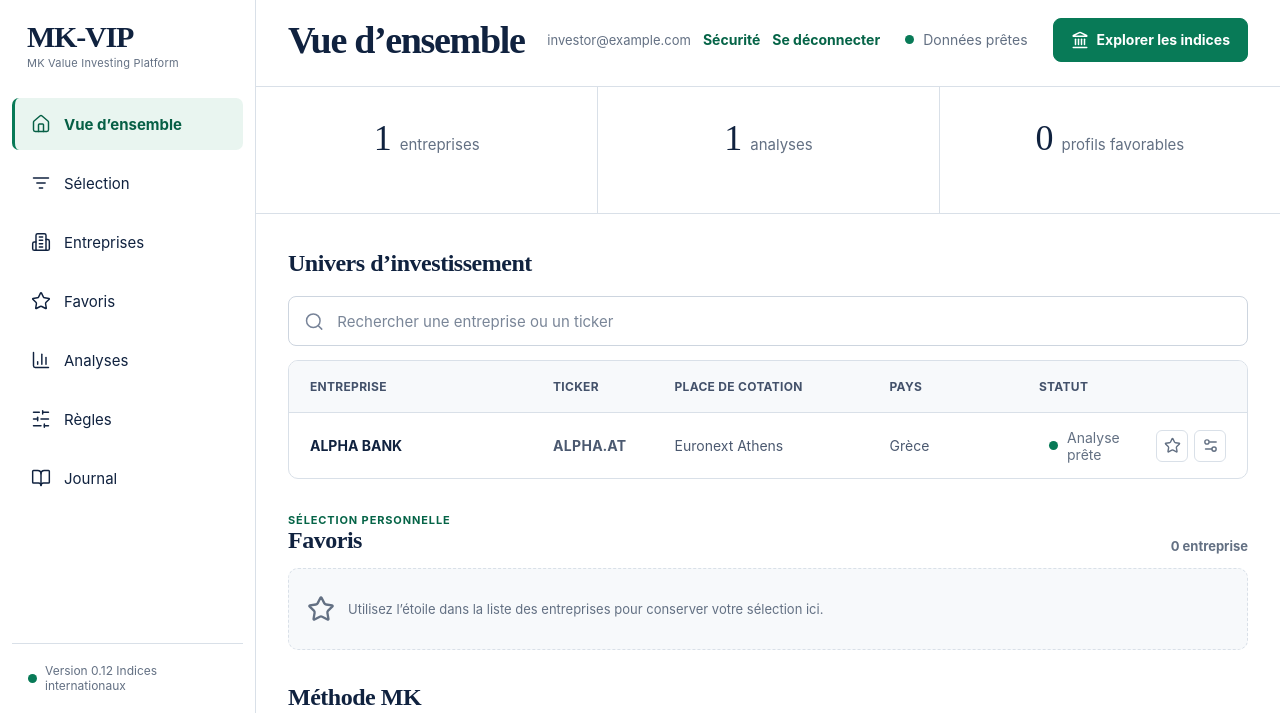
Test: MK-VIP authentication › allows a financial institution without an MK Score to become a favorite
This screenshot has width=1280, height=713.
Step 1. Click the button named "Ajouter ALPHA BANK aux favoris" → click(1172, 446), box left=1156, top=430, right=1188, bottom=462
(page scrolled)
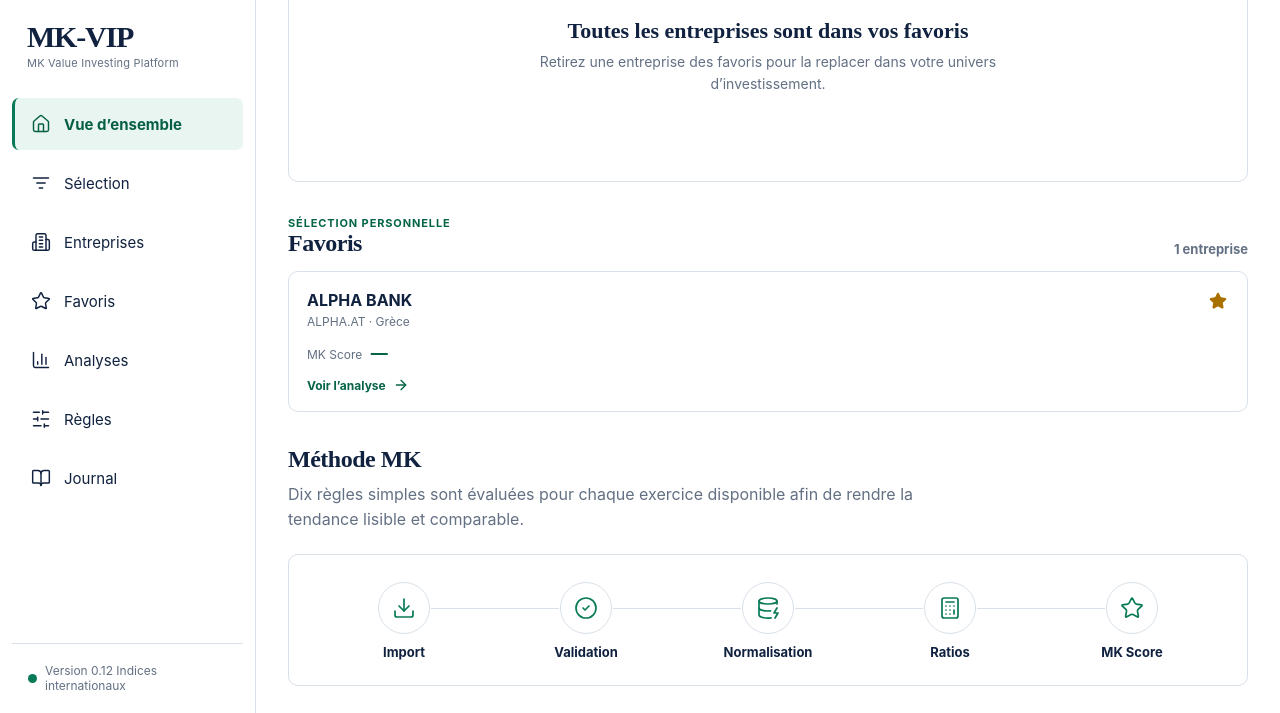
Check: the text "ALPHA BANK" is shown, box left=307, top=290, right=412, bottom=310
Check: the text "—" is shown, box left=371, top=343, right=388, bottom=363
